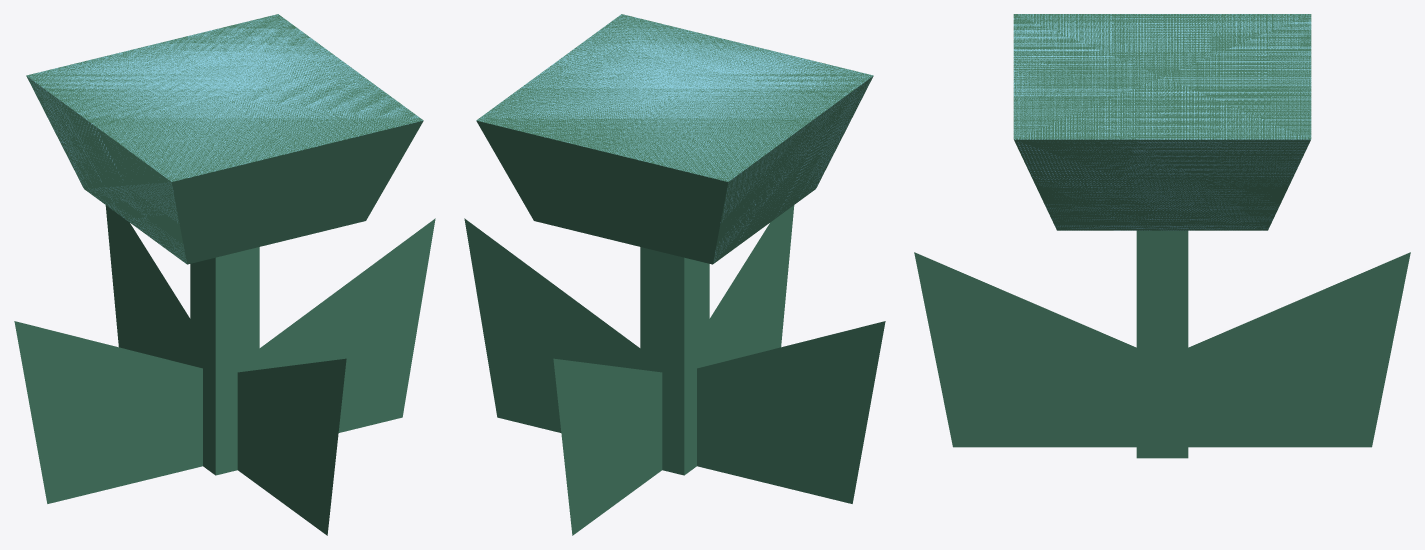
The model's file is Flower_Yellow_01.fbx.
3 renders of one model, left to right at view 1: azimuth 30°, elevation 25°; view 2: azimuth 150°, elevation 25°; view 3: azimuth 270°, elevation 25°, orthographic. The views are drawn at different scales.
Parts seen in each view (by area): view 1: Mesh3_Flower_Yellow Model, Mesh4_Flower_Yellow Model, Mesh1_Flower_Yellow Model, Mesh2_Flower_Yellow Model, Mesh5_Flower_Yellow Model; view 2: Mesh3_Flower_Yellow Model, Mesh4_Flower_Yellow Model, Mesh1_Flower_Yellow Model, Mesh5_Flower_Yellow Model, Mesh2_Flower_Yellow Model; view 3: Mesh3_Flower_Yellow Model, Mesh2_Flower_Yellow Model, Mesh5_Flower_Yellow Model.
Boxes of the visible parts, box(x1,y1,x2,y2) form: Mesh3_Flower_Yellow Model: box(26, 14, 423, 475); Mesh4_Flower_Yellow Model: box(14, 321, 202, 503); Mesh1_Flower_Yellow Model: box(259, 218, 435, 432); Mesh2_Flower_Yellow Model: box(237, 358, 346, 535); Mesh5_Flower_Yellow Model: box(105, 205, 190, 364); Mesh3_Flower_Yellow Model: box(476, 14, 873, 475); Mesh4_Flower_Yellow Model: box(697, 321, 885, 503); Mesh1_Flower_Yellow Model: box(464, 218, 640, 432); Mesh5_Flower_Yellow Model: box(553, 358, 662, 535); Mesh2_Flower_Yellow Model: box(709, 205, 794, 364); Mesh3_Flower_Yellow Model: box(1013, 14, 1311, 458); Mesh2_Flower_Yellow Model: box(914, 252, 1136, 447); Mesh5_Flower_Yellow Model: box(1188, 252, 1410, 447).
Size of the model in its own units: 0.4859 by 0.4 by 0.4859.
